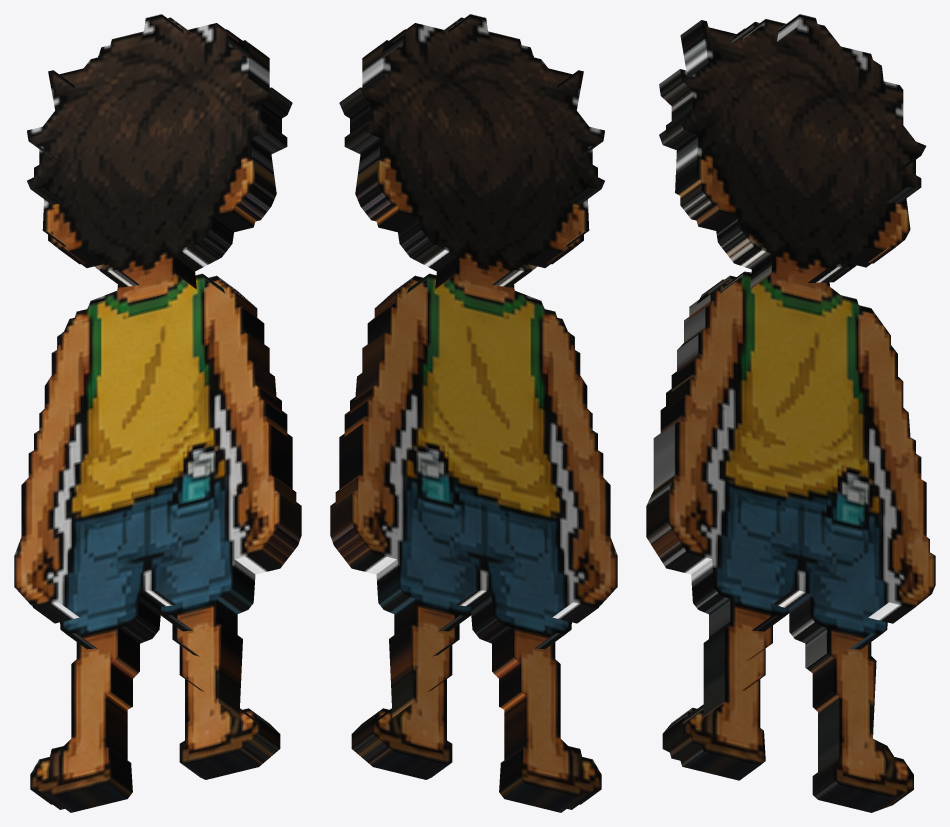
Rendered from back.glb.
3 renders of one model, left to right at view 1: azimuth 30°, elevation 25°; view 2: azimuth 150°, elevation 25°; view 3: azimuth 330°, elevation 25°, orthographic.
Parts seen in each view (by area): view 1: world; view 2: world; view 3: world.
Part boxes in pixels (box(x1,y1,x2,y2)): world: box(14, 14, 301, 812); world: box(330, 14, 617, 812); world: box(646, 14, 935, 812).
Size of the model in its own units: 1.5 by 4.07 by 0.204.
1 material, 1 textured.
